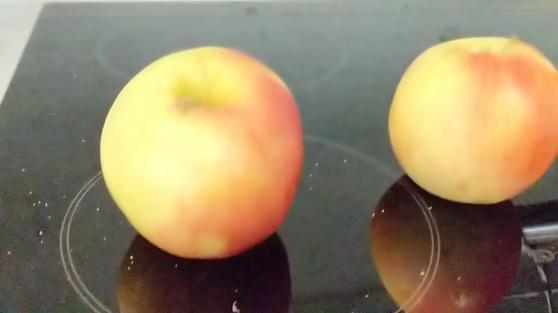apple: (97, 45, 306, 258), (388, 31, 558, 204)
